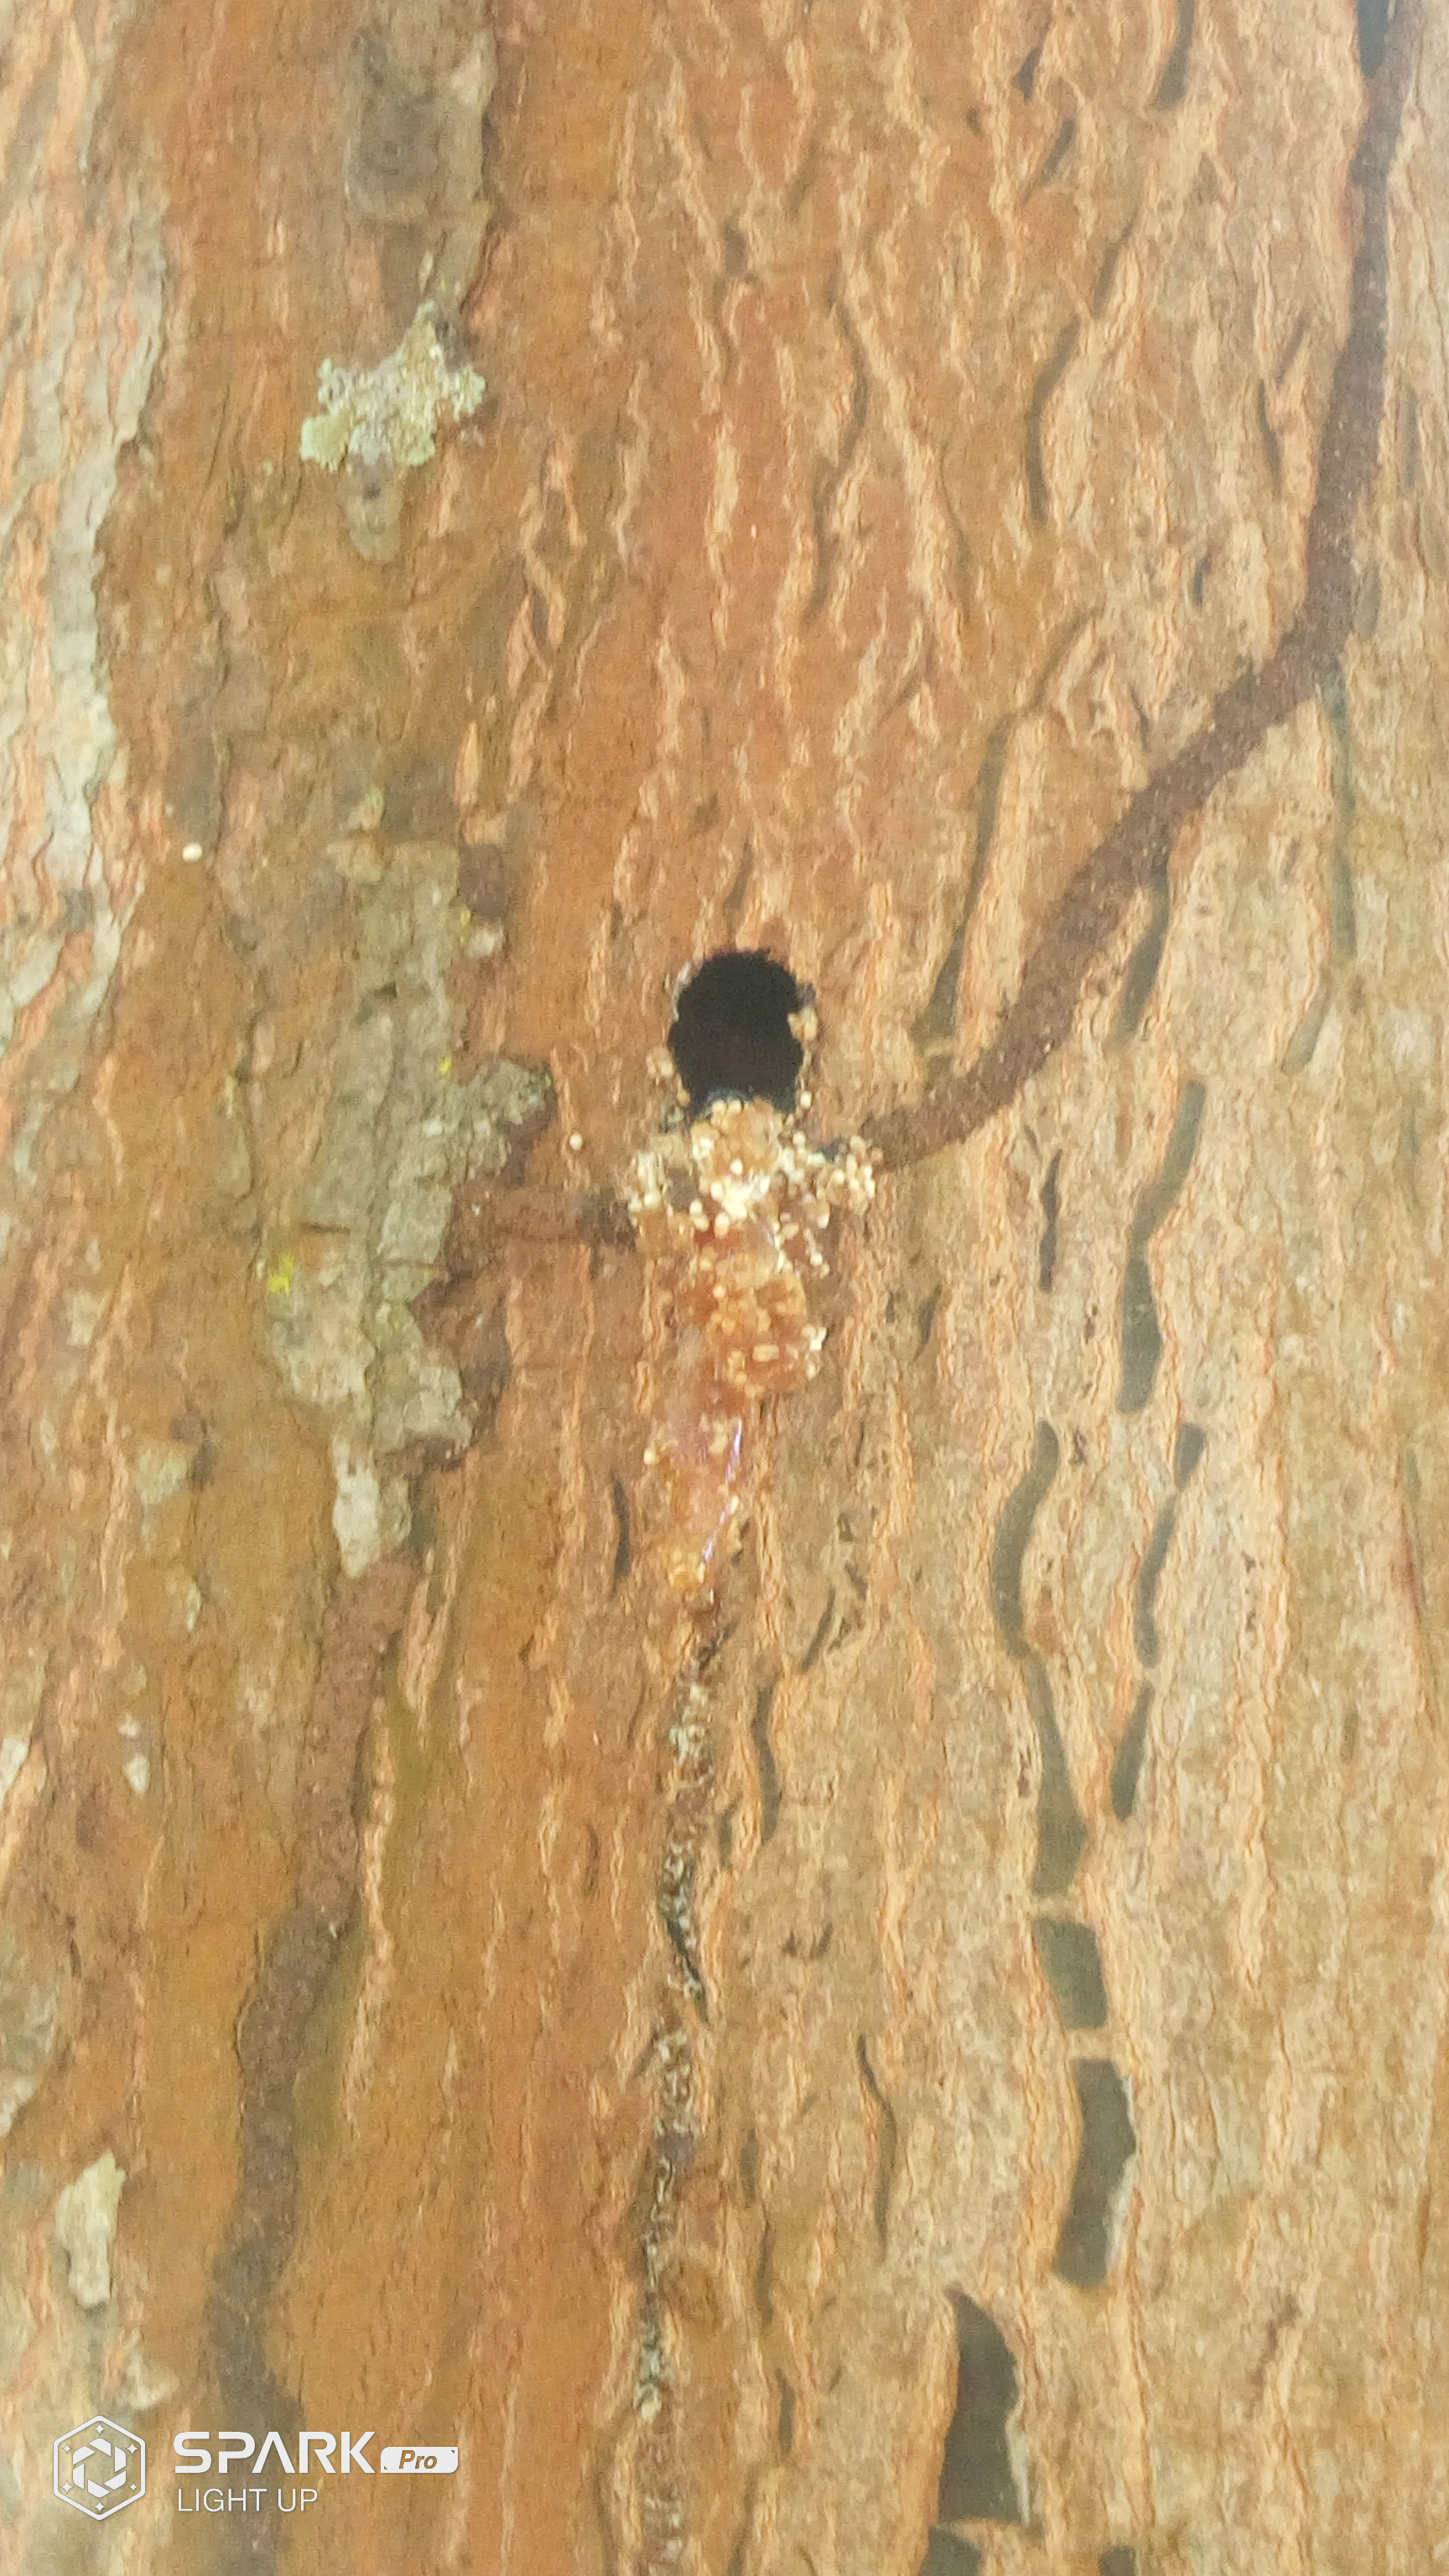Apate terebrans: (504, 892, 1008, 1299)
